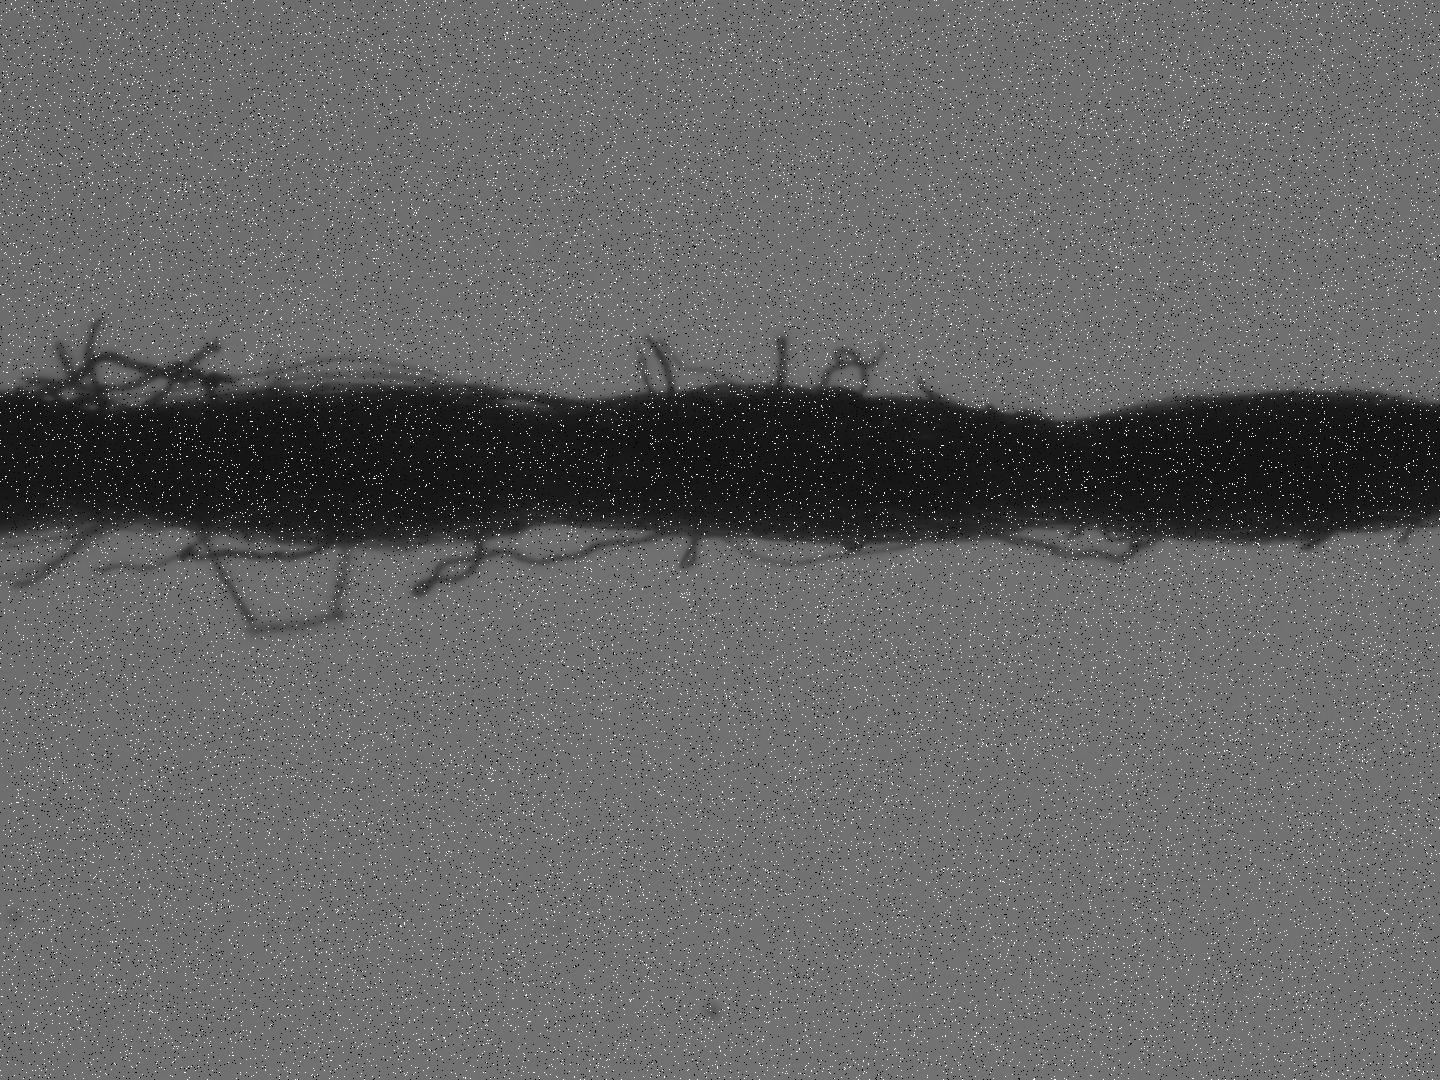loop_fiber: (403, 488, 694, 606), (945, 499, 1208, 568), (22, 346, 237, 428), (723, 533, 924, 572), (277, 368, 439, 393), (443, 386, 582, 406)
protruding_fiber: (186, 522, 255, 627), (762, 319, 795, 407), (643, 327, 676, 394)
